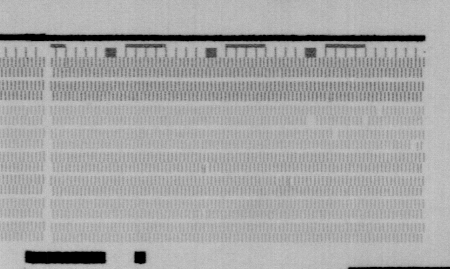Broken hole: (407, 140, 423, 152), (304, 115, 320, 127), (330, 129, 342, 141), (360, 116, 371, 128), (374, 105, 385, 117)
Oblique printing: (200, 162, 212, 175), (285, 174, 297, 187)
